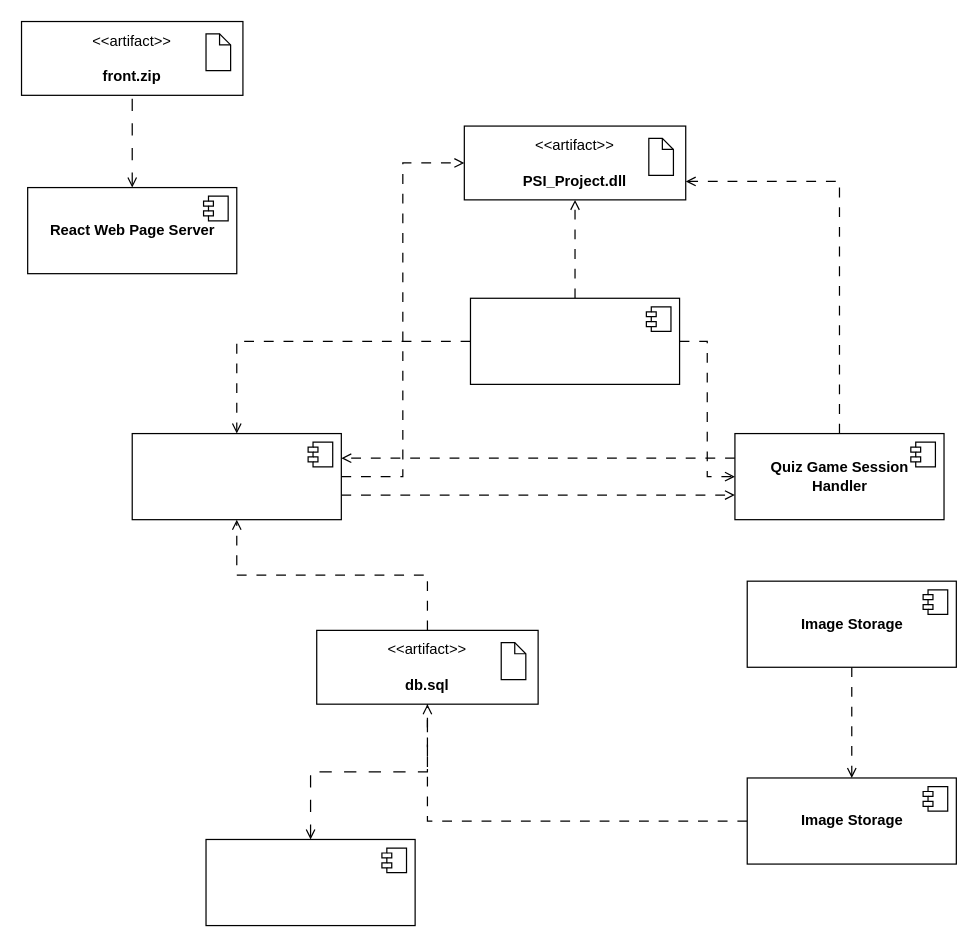
This 978x947 diagram has some shape labels left out. The centre of each missing label's shape, as x and y in pixels:
"Authorization Service" goes at [574,340].
"CRUD Handler" goes at [236,476].
"Data Catalog" goes at [310,882].
